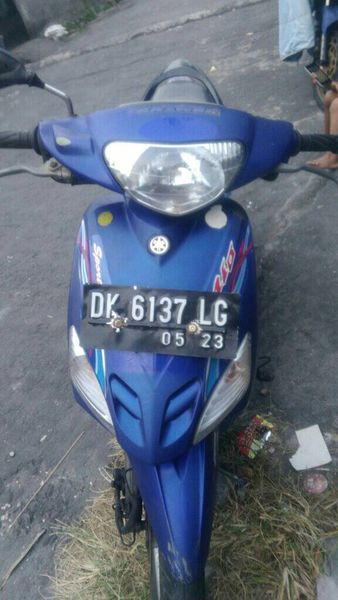plate: (86, 277, 235, 363)
